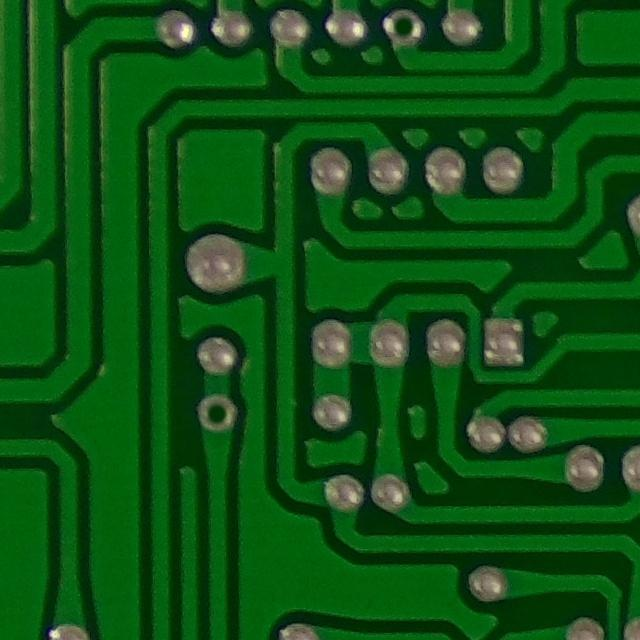missing_hole: (185, 384, 248, 436), (381, 2, 427, 52)
